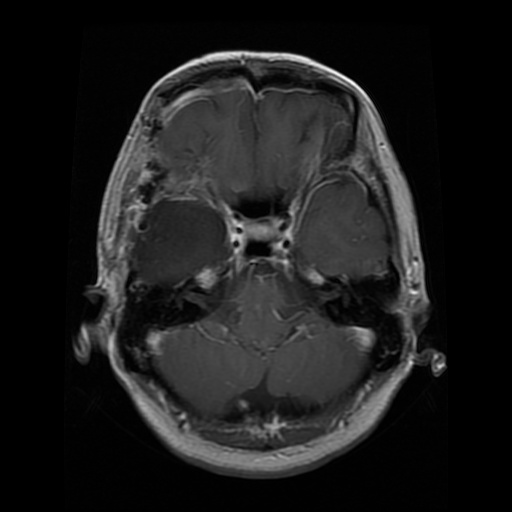glioma: (134, 199, 231, 287)
